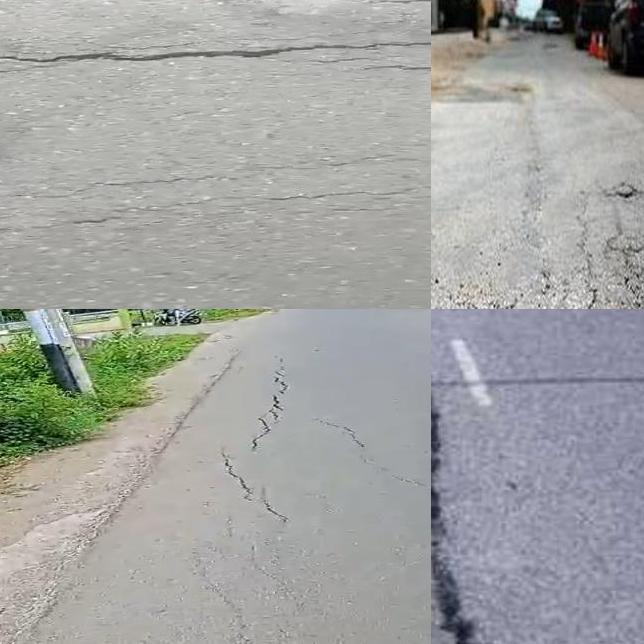Melintang: (0, 36, 431, 75)
Memanjang: (431, 333, 486, 644), (209, 345, 296, 530)
